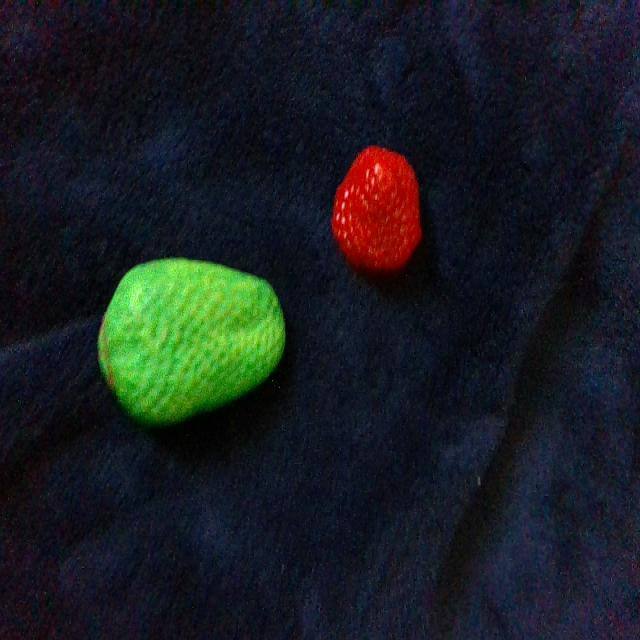chica_roja: (333, 147, 421, 271)
verde: (101, 259, 284, 425)
